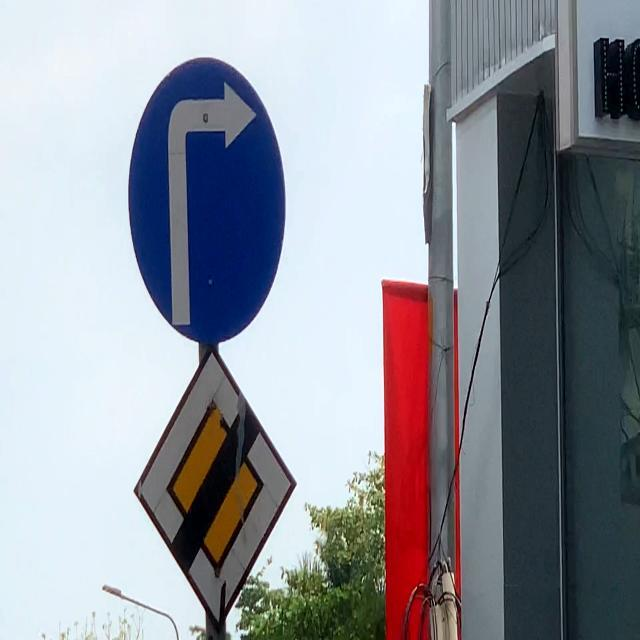R-301d: (129, 54, 285, 344)
